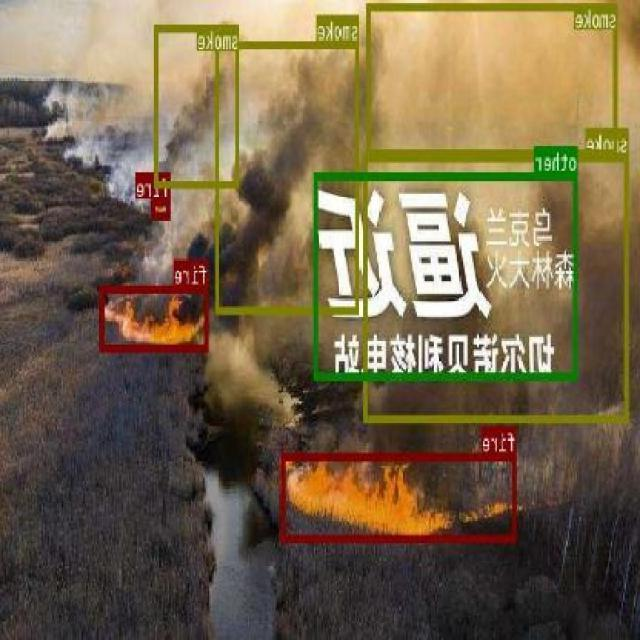Fire: (282, 452, 518, 542), (101, 285, 210, 350), (152, 197, 170, 217)
Smoke: (365, 153, 630, 421), (216, 40, 361, 312), (368, 2, 618, 156), (156, 24, 242, 187)
